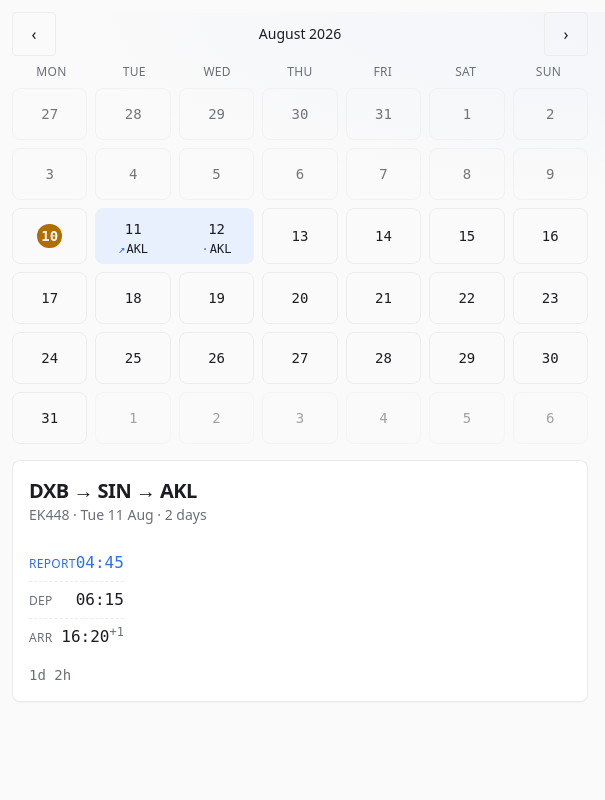
Test: CalendarHome › the detail card's action button expands a trip day in place (trip-legs-panel)
The image size is (605, 800).
Click the button with test id "calendar-day-2026-08-11" at (133, 236), box [95,208,171,264]
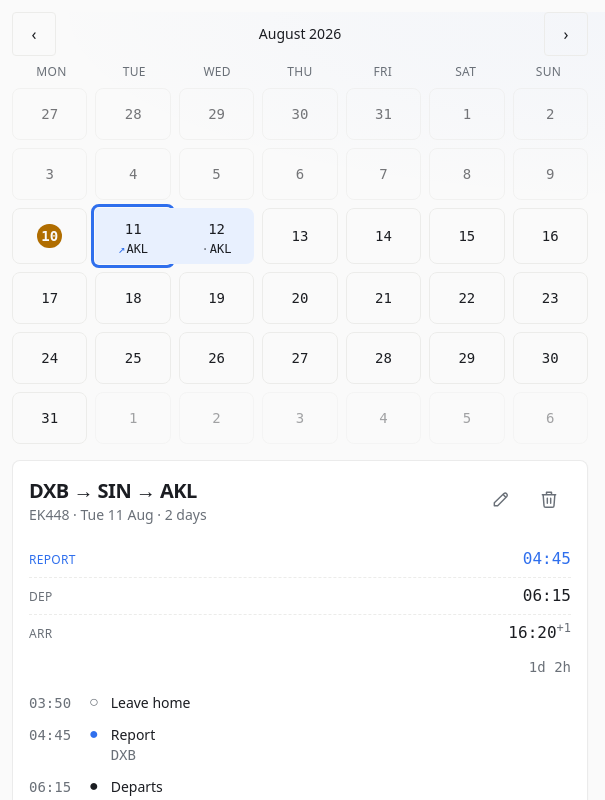
Click the button with test id "day-detail-action" at (501, 499), box [479,477,523,521]
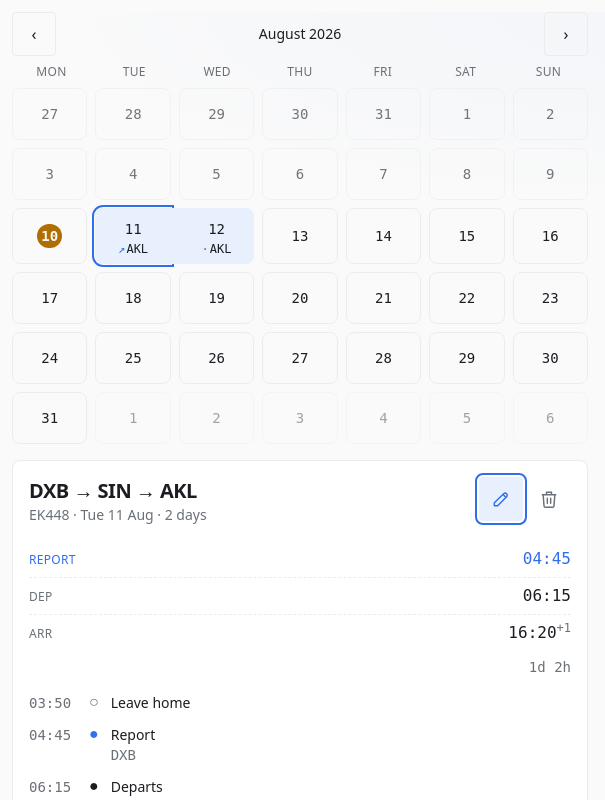
Expected: the button with test id "day-detail-action" is expanded, [479,477,523,521]
